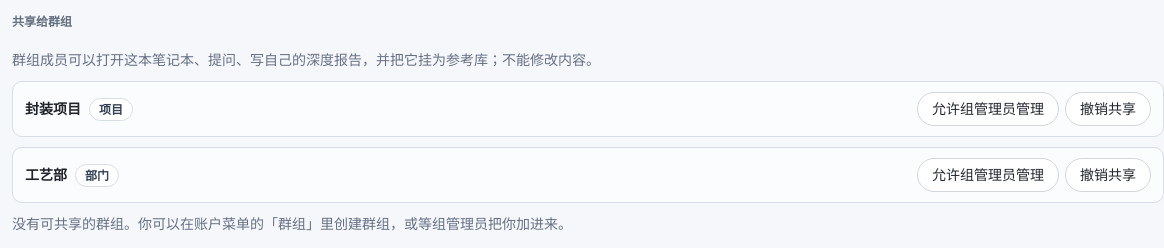
Test: 撤销只让**那一条**显示进行态,不是整段一起变灰
Expected: the text "封装项目" is shown, top-left (25, 99), bottom-right (81, 120)
What coordinates should you click on to do the following:
click the button "撤销共享" in the row of "部门"
I would click on:
 (1108, 175)
Its box is top-left (1065, 158), bottom-right (1151, 192).
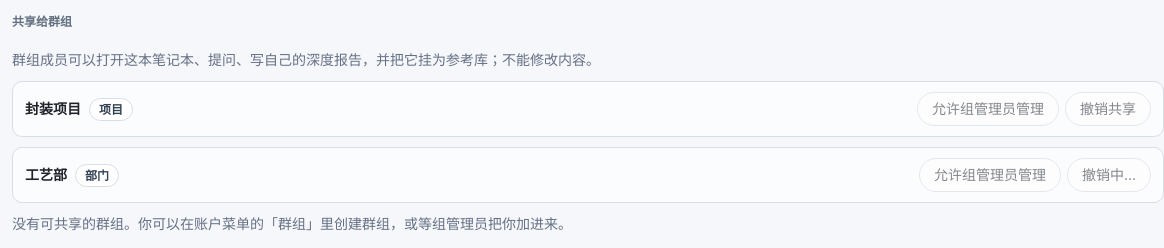
Expected: the number of buttons "撤销中…" is 1, top-left (1067, 158), bottom-right (1151, 192)
Expected: the button "撤销中…" is shown, top-left (1067, 158), bottom-right (1151, 192)
Expected: the button "撤销共享" is disabled, top-left (1065, 92), bottom-right (1151, 126)
